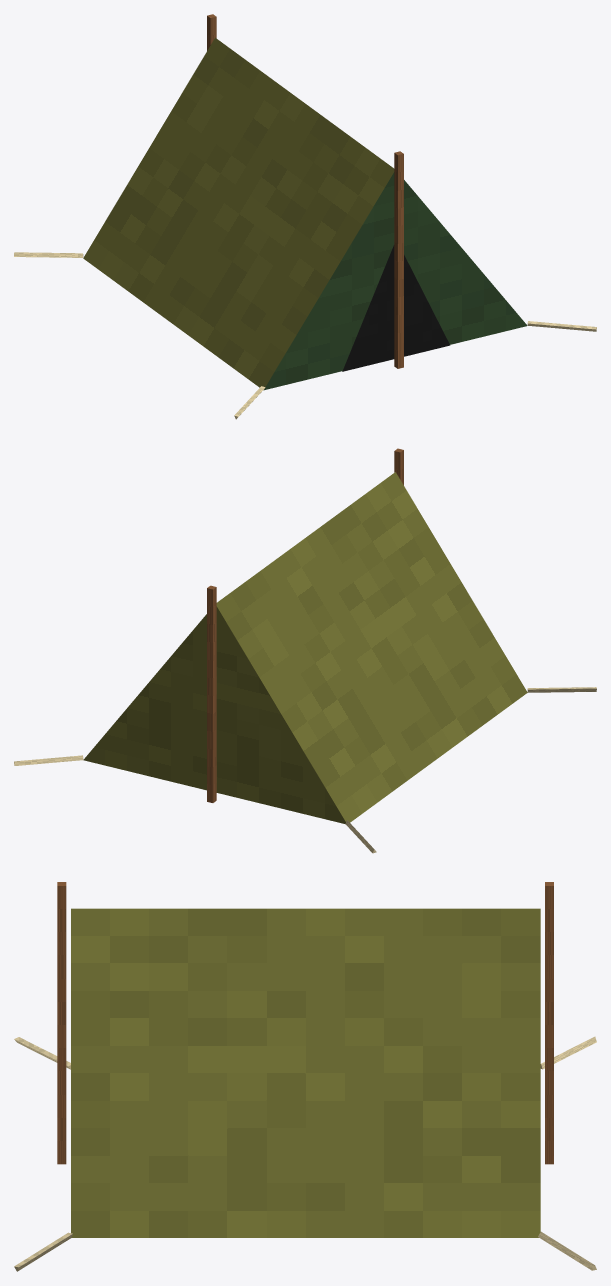
The model's file is tent.glb.
The picture shows the model from 3 angles, top to bottom: view 1: azimuth 30°, elevation 25°; view 2: azimuth 150°, elevation 25°; view 3: azimuth 270°, elevation 25°; orthographic projection. The views are drawn at different scales.
Visible parts, largest first — view 1: tent; view 2: tent; view 3: tent.
Part boxes in pixels (box(x1,y1,x2,y2)): tent: box(14, 14, 596, 419); tent: box(14, 448, 596, 853); tent: box(14, 882, 596, 1271).
Bounding box in the file's own units: 3.02 × 1.7 × 3.23.
1 material, 1 textured.
